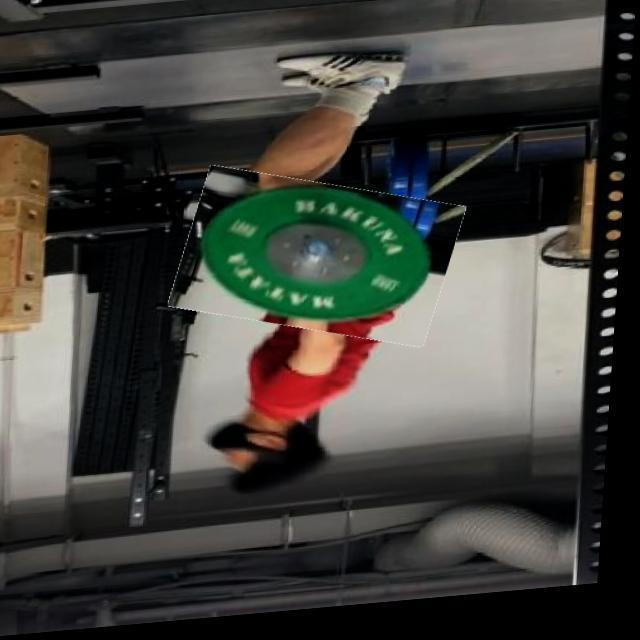barbell: (177, 168, 467, 359)
